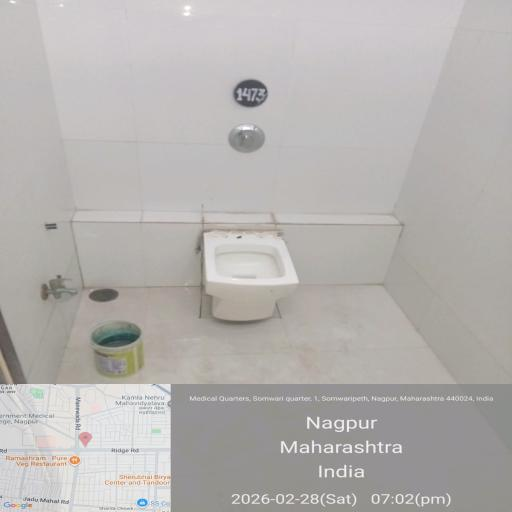clean_floor: (115, 294, 472, 512), (68, 2, 455, 178)
clean_western: (179, 194, 363, 338)
